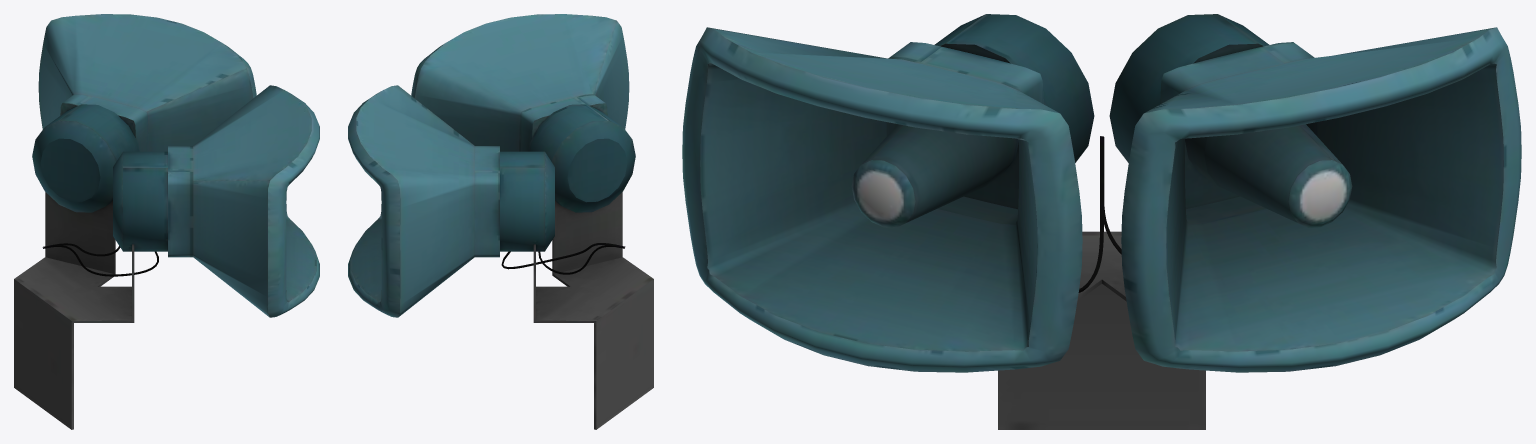
3 renders of one model, left to right at view 1: azimuth 30°, elevation 25°; view 2: azimuth 150°, elevation 25°; view 3: azimuth 270°, elevation 25°, orthographic. The views are drawn at different scales.
Parts seen in each view (by area): view 1: body0_model0_lod0_mesh0; view 2: body0_model0_lod0_mesh0; view 3: body0_model0_lod0_mesh0.
Part boxes in pixels (left/top/right/bottom): body0_model0_lod0_mesh0: left=14, top=14, right=319, bottom=429; body0_model0_lod0_mesh0: left=348, top=14, right=653, bottom=429; body0_model0_lod0_mesh0: left=682, top=14, right=1521, bottom=429.
Size of the model in its own units: 52.54 by 63.48 by 92.89.
1 material, 1 textured.
